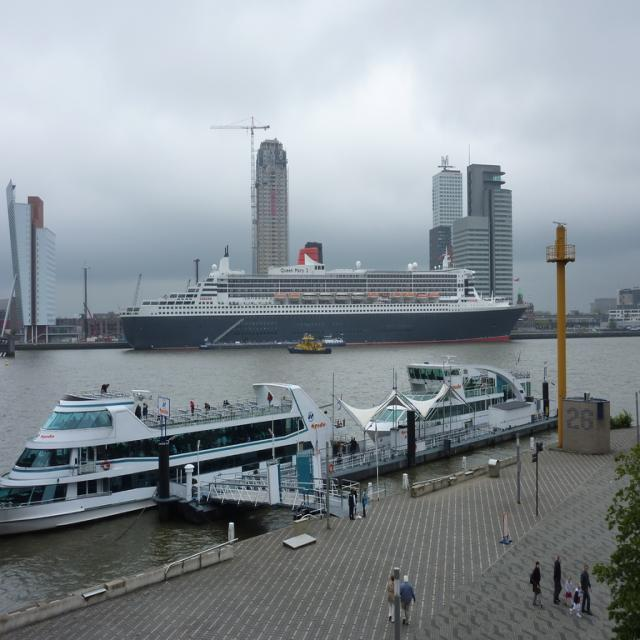Boat: (0, 381, 350, 536), (359, 356, 535, 450), (288, 332, 332, 356), (316, 334, 346, 348)
